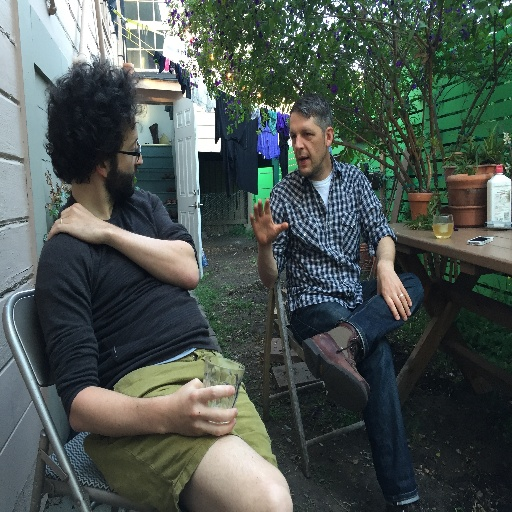hand: (165, 377, 237, 437), (45, 203, 109, 243), (376, 263, 413, 322), (249, 201, 287, 258)
